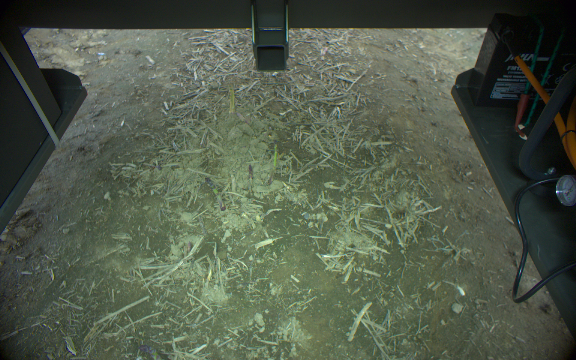aspa: (204, 175, 226, 212), (266, 142, 278, 184), (246, 162, 255, 196), (227, 82, 236, 115)
